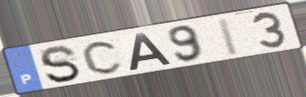3: (251, 10, 288, 50)
9: (167, 24, 207, 64)
A: (128, 31, 174, 73)
C: (80, 39, 126, 76)
I: (215, 16, 242, 57)
S: (37, 44, 84, 84)
